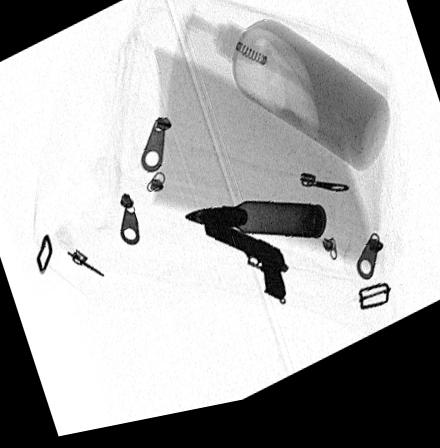Bullet: (184, 212, 327, 253)
Gun: (202, 231, 286, 313)
